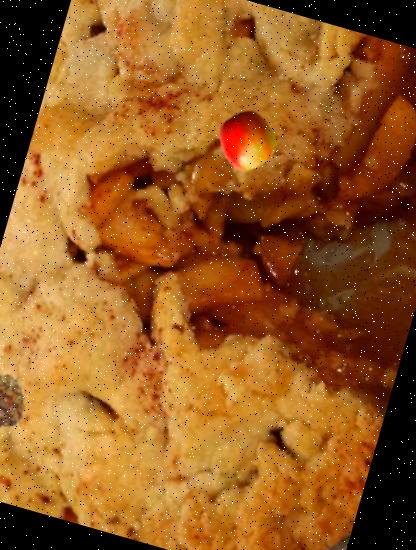Apple: (210, 105, 285, 180)
Pineapple: (0, 365, 37, 436)
